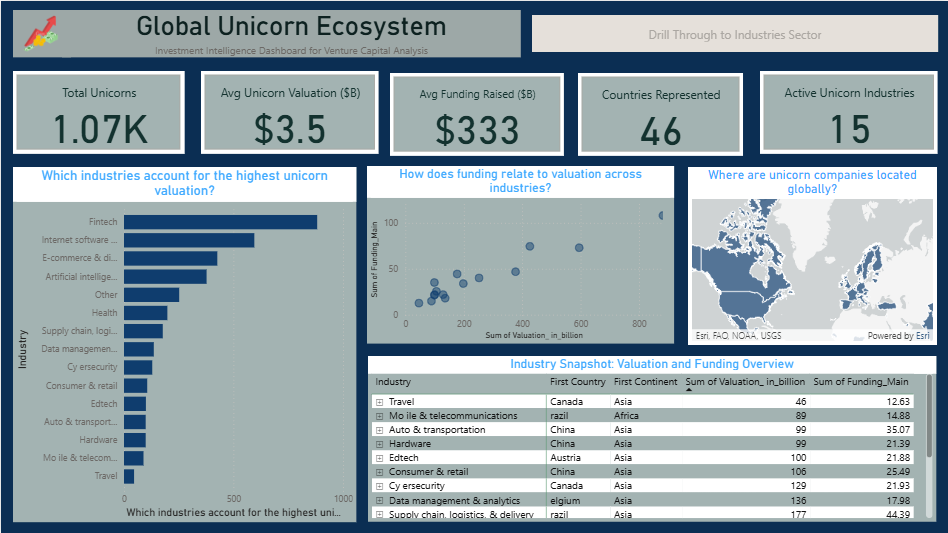

What the dashboard file says about the page in this screenshot:
{"tool":"powerbi","page":{"name":"Home","canvas":[1280,720],"ordinal":0},"visuals":[{"type":"textbox","title":"Global Unicorn Ecosystem","box":[82.4,12.2,620.3,63.5],"z":0},{"type":"image","box":[16.2,12.2,78.4,63.5],"z":1000},{"type":"cardVisual","fields":{"Data":["Count(Unicorn_Companies (4).Industry)"]},"box":[1025,95,240,111.7],"z":3000},{"type":"cardVisual","fields":{"Data":["Avg(Unicorn_Companies (4).Funding_1)"]},"box":[525,96.7,235,111.7],"z":4000},{"type":"cardVisual","fields":{"Data":["CountNonNull(Unicorn_Companies (4).Company)"]},"box":[16.7,95,231.7,111.7],"z":5000},{"type":"cardVisual","fields":{"Data":["Avg(Unicorn_Companies (4).Valuation_ in_billion)"]},"box":[270,95,240,111.7],"z":6000},{"type":"cardVisual","fields":{"Data":["Count(Unicorn_Companies (4).Country)"]},"box":[780,96.7,223.3,111.7],"z":7000},{"type":"clusteredBarChart","title":"Which industries account for the highest unicorn valuation?","fields":{"Category":["Unicorn_Companies (4).Industry"],"Y":["Sum(Unicorn_Companies (4).Valuation_ in_billion)"]},"box":[16,224,464,480],"z":8000},{"type":"pivotTable","title":"Industry Snapshot: Valuation and Funding Overview","fields":{"Values":["Min(Unicorn_Companies (4).Country)","Min(Unicorn_Companies (4).Continent)","Sum(Unicorn_Companies (4).Valuation_ in_billion)","Sum(Unicorn_Companies (4).Funding_Main)"],"Rows":["Unicorn_Companies (4).Industry","Unicorn_Companies (4).Company"]},"box":[496,480,768,224],"z":9000},{"type":"scatterChart","title":"How does funding relate to valuation across industries?","fields":{"X":["Sum(Unicorn_Companies (4).Valuation_ in_billion)"],"Category":["Unicorn_Companies (4).Industry"],"Y":["Sum(Unicorn_Companies (4).Funding_Main)"]},"box":[495,223.3,415,240],"z":10000},{"type":"esriVisual","title":"Where are unicorn companies located globally?","fields":{"Location":["Unicorn_Companies (4).Country"]},"box":[928,224,336,240],"z":11000},{"type":"actionButton","box":[717.6,18.9,548.6,50],"z":12000}]}

Visuals, with their boxes in screenshot pixels (x1, y1, x2, y2), scaled from the page's 1280x720 canvas onto the 948x533 screenshot:
"Global Unicorn Ecosystem" textbox: x1=61, y1=9, x2=520, y2=56
image: x1=12, y1=9, x2=70, y2=56
cardVisual - Count(Unicorn_Companies (4).Industry): x1=759, y1=70, x2=937, y2=153
cardVisual - Avg(Unicorn_Companies (4).Funding_1): x1=389, y1=72, x2=563, y2=154
cardVisual - CountNonNull(Unicorn_Companies (4).Company): x1=12, y1=70, x2=184, y2=153
cardVisual - Avg(Unicorn_Companies (4).Valuation_ in_billion): x1=200, y1=70, x2=378, y2=153
cardVisual - Count(Unicorn_Companies (4).Country): x1=578, y1=72, x2=743, y2=154
"Which industries account for the highest unicorn valuation?" clusteredBarChart: x1=12, y1=166, x2=356, y2=521
"Industry Snapshot: Valuation and Funding Overview" pivotTable: x1=367, y1=355, x2=936, y2=521
"How does funding relate to valuation across industries?" scatterChart: x1=367, y1=165, x2=674, y2=343
"Where are unicorn companies located globally?" esriVisual: x1=687, y1=166, x2=936, y2=343
actionButton: x1=531, y1=14, x2=938, y2=51
